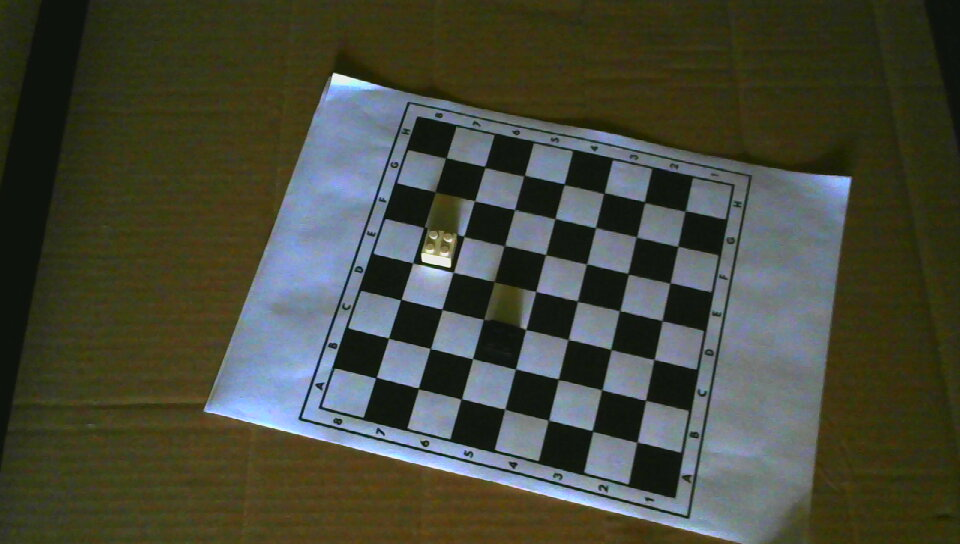bp: (483, 322, 521, 363)
wp: (421, 227, 457, 267)
